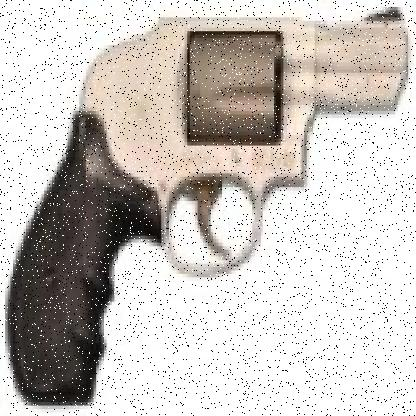pistol: (5, 10, 411, 398)
